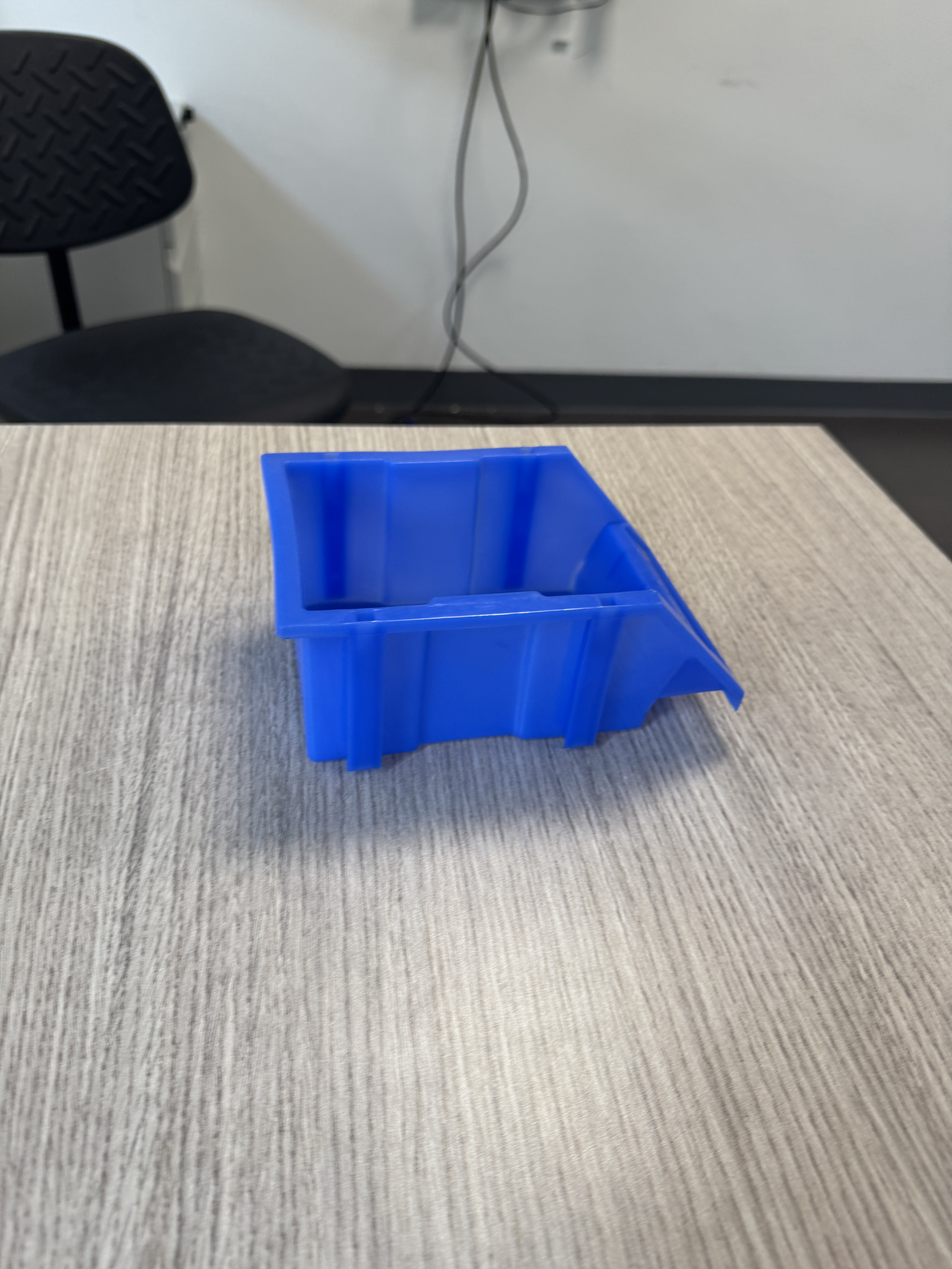Bin Boundary: (288, 447, 653, 614)
